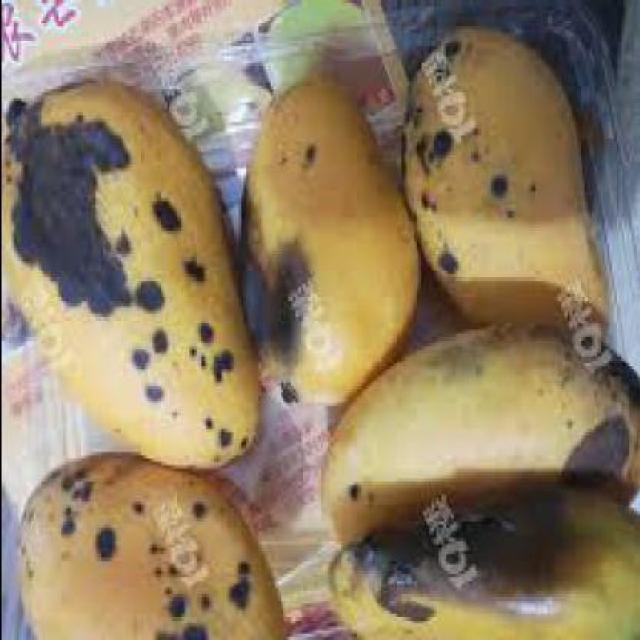BIODEGRADABLE: (2, 81, 255, 477), (316, 326, 638, 545), (392, 40, 611, 340), (230, 80, 418, 412), (10, 458, 282, 638), (326, 488, 639, 638)
